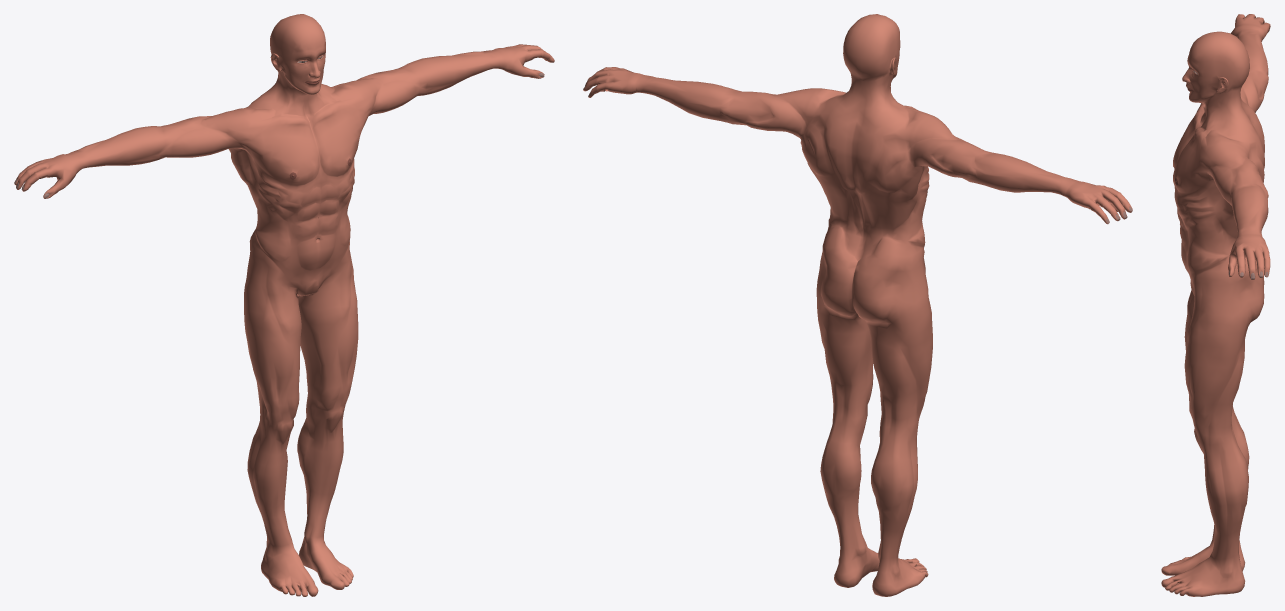
The picture shows the model from 3 angles, left to right: view 1: azimuth 30°, elevation 25°; view 2: azimuth 150°, elevation 25°; view 3: azimuth 270°, elevation 25°; orthographic projection. The views are drawn at different scales.
Visible parts, largest first — view 1: lThigh, rThigh, hip, chest, lShin, rShin, rShldr, abdomen, head, rCollar, lCollar, lShldr (+7 smaller); view 2: hip, rThigh, rShin, lShin, lThigh, chest, abdomen, rCollar, lShldr, rShldr, head, lCollar (+7 smaller); view 3: lThigh, lShin, hip, head, lShldr, lFoot, lCollar, chest, abdomen, lHand, lForeArm, neck (+7 smaller).
Boxes of the visible parts, box(x1,y1,x2,y2) form: lThigh: box(298, 271, 358, 402); rThigh: box(244, 287, 301, 414); hip: box(244, 217, 353, 296); chest: box(231, 138, 359, 210); lShin: box(297, 394, 348, 537); rShin: box(247, 406, 297, 546); rShldr: box(160, 108, 263, 157); abdomen: box(250, 191, 351, 247); head: box(270, 14, 325, 94); rCollar: box(228, 88, 319, 168); lCollar: box(306, 84, 364, 163); lShldr: box(333, 67, 420, 123); hip: box(817, 226, 928, 323); rThigh: box(865, 290, 932, 420); rShin: box(871, 406, 923, 558); lShin: box(820, 395, 870, 548); lThigh: box(816, 281, 873, 409); chest: box(801, 144, 929, 211); abdomen: box(823, 189, 927, 248); rCollar: box(851, 105, 924, 177); lShldr: box(727, 88, 831, 137); rShldr: box(904, 111, 991, 182); head: box(843, 14, 900, 81); lCollar: box(800, 90, 859, 159); lThigh: box(1184, 307, 1248, 427); lShin: box(1193, 421, 1248, 559); hip: box(1181, 240, 1264, 326); head: box(1182, 31, 1249, 103); lShldr: box(1195, 135, 1267, 205); lFoot: box(1161, 551, 1245, 596); lCollar: box(1174, 113, 1264, 183); chest: box(1173, 148, 1264, 225); abdomen: box(1177, 208, 1237, 264); lHand: box(1228, 228, 1270, 279); lForeArm: box(1231, 184, 1268, 234); neck: box(1201, 89, 1246, 129).
Bounding box in the file's own units: 0.6905 × 0.6897 × 0.1248.
